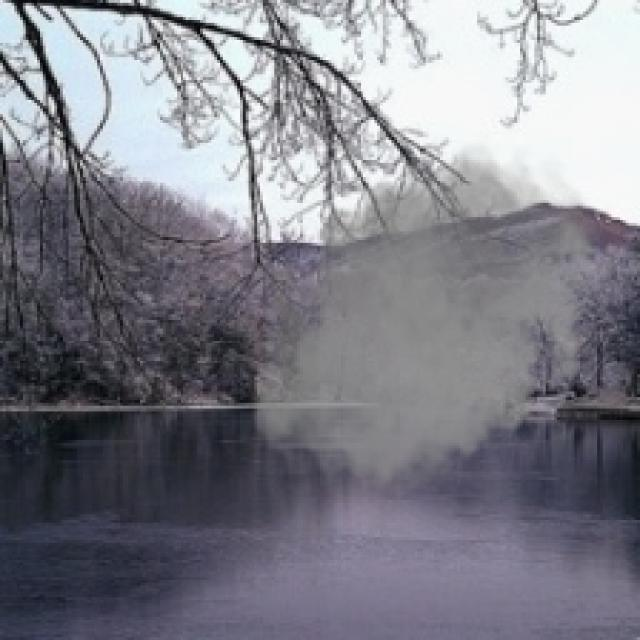smoke: (246, 131, 608, 500)
